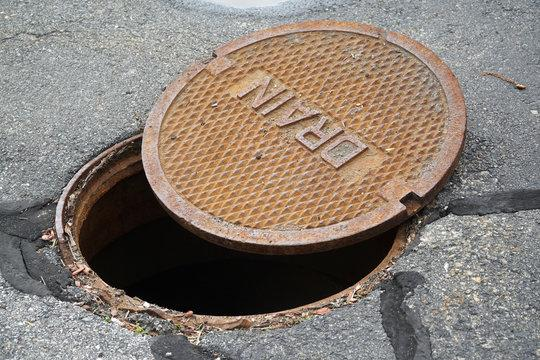open manhole-not overflowing-: (55, 21, 472, 329)
